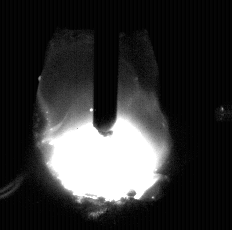arame: (93, 0, 119, 137)
poca: (37, 0, 173, 230)
